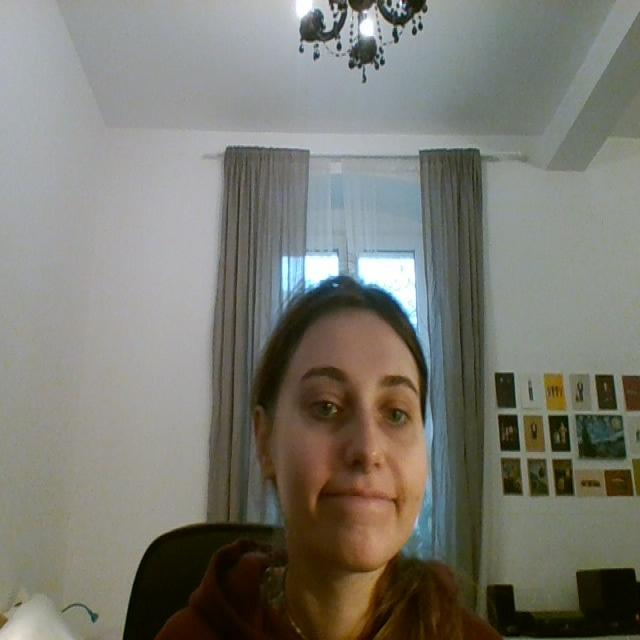eye: (302, 393, 352, 426), (377, 399, 418, 431)
gaze: (318, 399, 334, 417), (390, 408, 402, 422)
